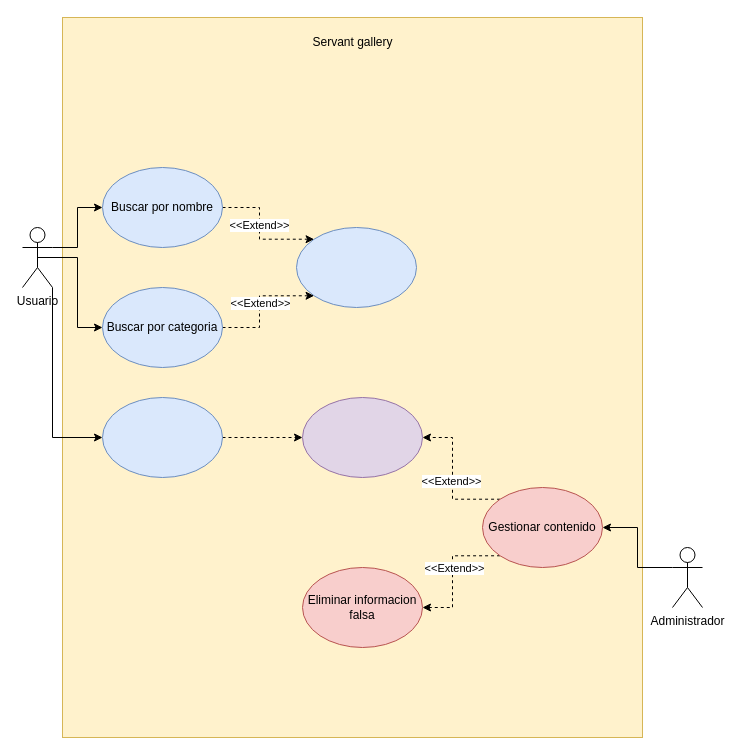
Image size: 742x755. Some labels were removed from this diagram. The box of each missing label's shape, as (x1, y1, x2, y2) in pixels:
Añadir Informacion o personajes: (302, 396, 422, 478)
Leer informacion: (296, 226, 416, 308)
Solicitar nuevo personaje no agregado: (102, 396, 222, 478)
